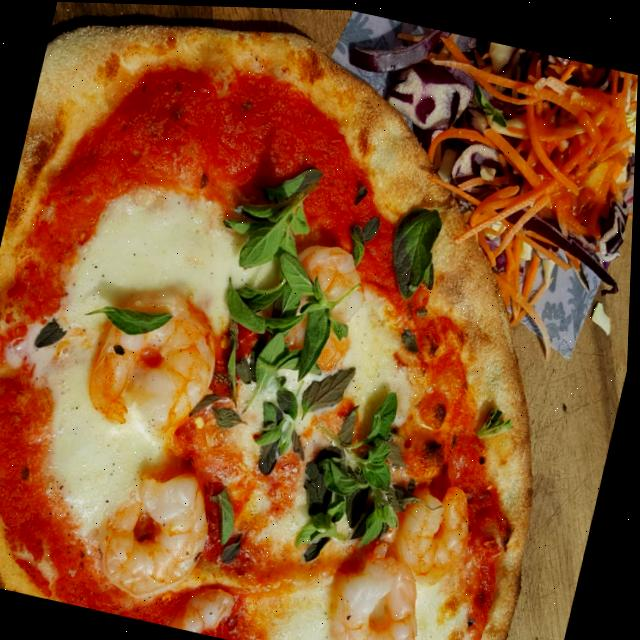basil: (266, 359, 447, 595), (190, 240, 337, 451), (248, 262, 368, 488), (211, 141, 335, 288), (376, 196, 452, 308), (80, 283, 183, 345), (298, 345, 366, 432), (201, 483, 266, 572), (342, 204, 389, 270), (474, 397, 526, 447), (35, 313, 80, 358), (397, 319, 428, 355), (349, 176, 379, 209)
pizza: (0, 0, 632, 640)
